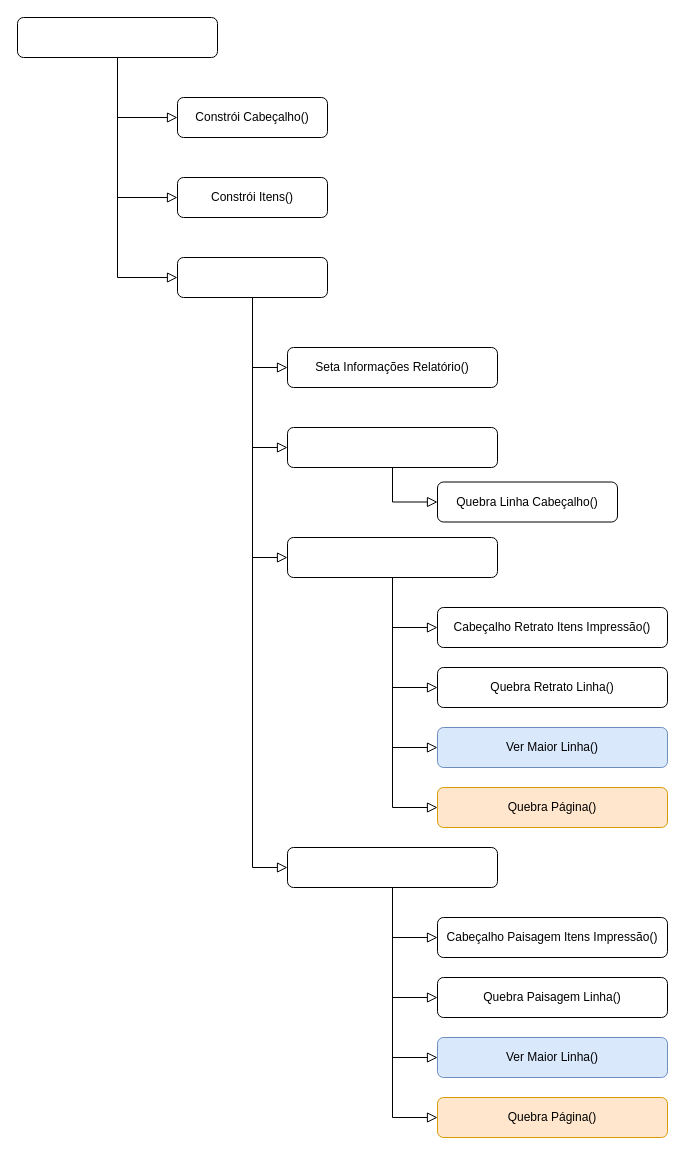
The diagram is 685 pixels wide and 1155 high, and some of its shapes have lost their labels. Here are the shapes that lost their labels. From the top down, the box of each, then its label:
(16, 16, 218, 58): Impressão do Relatório()
(176, 256, 328, 298): Monta Relatório()
(286, 426, 498, 468): Seta Cabeçalho Pedido de Venda()
(286, 536, 498, 578): Seta Itens Retrato()
(286, 846, 498, 888): Seta Itens Paisagem()
